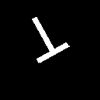half_double_crochet: (32, 17, 68, 62)
